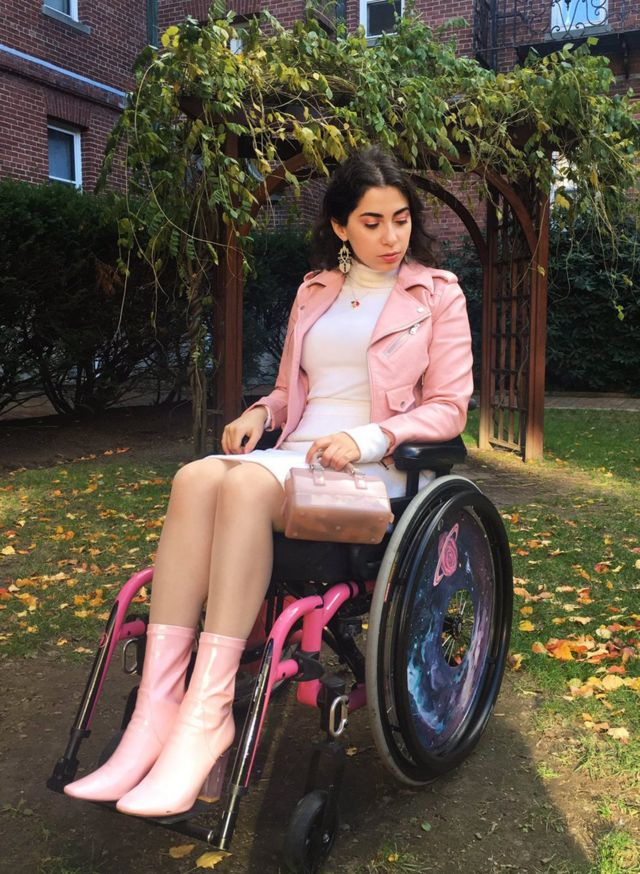wheelchair: (50, 154, 515, 874)
